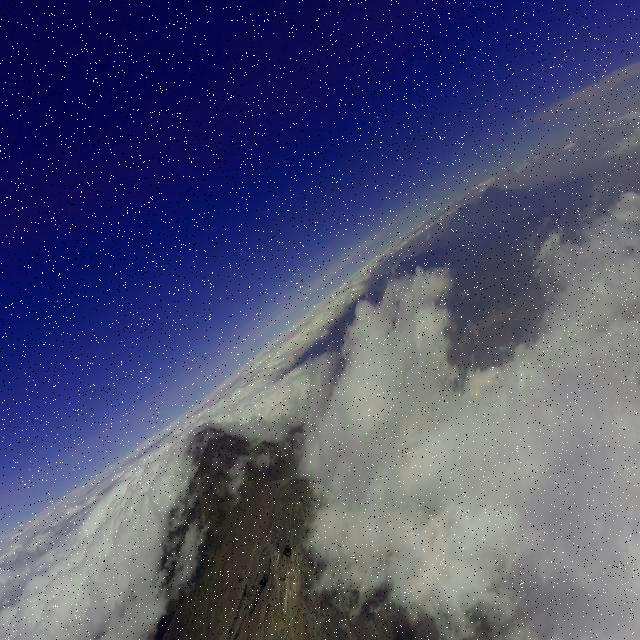Summit: (264, 471, 314, 640)
